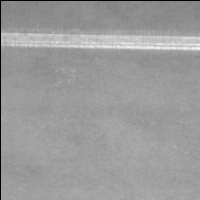scratches: (6, 31, 200, 52)
